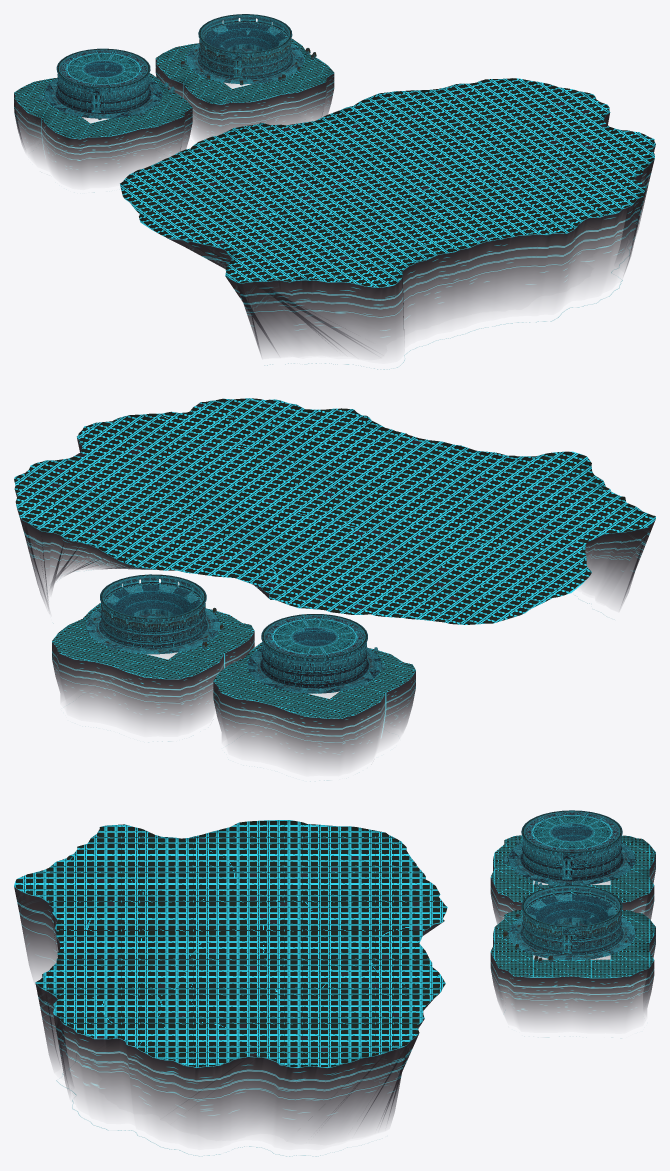
Rendered from digi_farm_3d_tron.glb.
3 renders of one model, top to bottom at view 1: azimuth 30°, elevation 25°; view 2: azimuth 150°, elevation 25°; view 3: azimuth 270°, elevation 25°, orthographic. The views are drawn at different scales.
Visible parts, largest first — view 1: Island, IlandColosseum.002, IlandColosseum.001, FarmColosseum_C, FarmColosseum_O.001; view 2: Island, IlandColosseum.002, IlandColosseum.001, FarmColosseum_O.001, FarmColosseum_C; view 3: Island, IlandColosseum.001, FarmColosseum_O.001, FarmColosseum_C, IlandColosseum.002.
Part boxes in pixels (x1,y1,x2,y2): Island: (120, 78, 655, 369); IlandColosseum.002: (14, 73, 192, 181); IlandColosseum.001: (155, 38, 334, 139); FarmColosseum_C: (39, 48, 174, 119); FarmColosseum_O.001: (181, 14, 316, 85); Island: (14, 398, 655, 624); IlandColosseum.002: (213, 642, 415, 766); IlandColosseum.001: (52, 603, 254, 726); FarmColosseum_O.001: (86, 574, 223, 654); FarmColosseum_C: (247, 614, 385, 693); Island: (14, 820, 447, 1156); IlandColosseum.001: (490, 909, 655, 1023); FarmColosseum_O.001: (502, 885, 635, 963); FarmColosseum_C: (502, 810, 635, 888); IlandColosseum.002: (490, 835, 655, 924).
Size of the model in its own units: 1.93 by 0.5038 by 2.11.
Materials: 4 (4 with a texture image).
